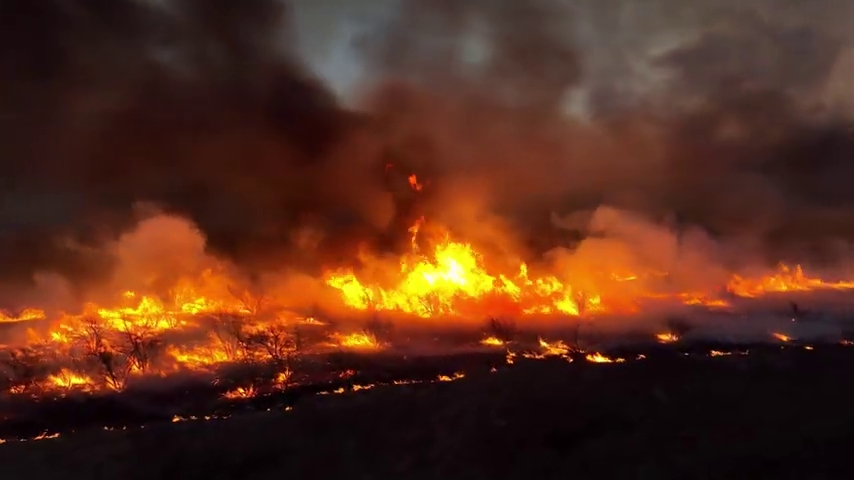forest_fire: (0, 219, 853, 396), (489, 338, 626, 372), (318, 372, 465, 394), (223, 385, 270, 398), (707, 349, 748, 356), (772, 332, 795, 344), (656, 333, 676, 343)
